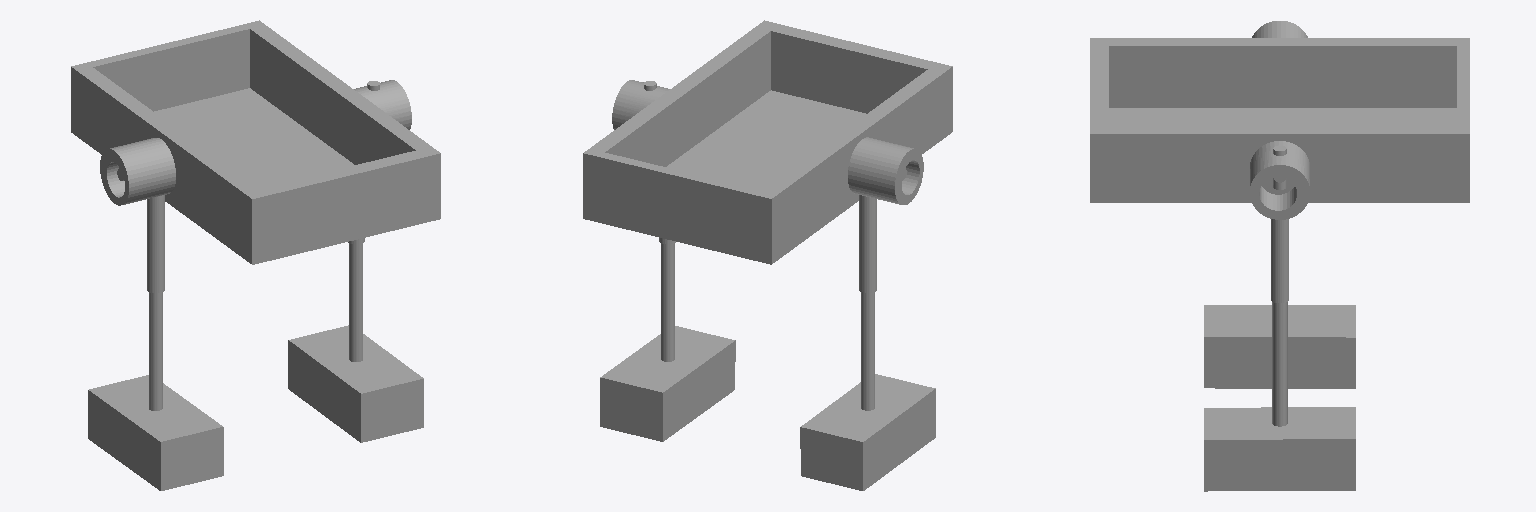
The robot description file, URDF, robot "Siclo1":
<?xml version="1.0" ?>
<!-- =================================================================================== -->
<!-- |    This document was autogenerated by xacro from /tmp/Siclo1_temp.xacro         | -->
<!-- |    EDITING THIS FILE BY HAND IS NOT RECOMMENDED                                 | -->
<!-- =================================================================================== -->
<robot name="Siclo1">
  <material name="silver">
    <color rgba="0.700 0.700 0.700 1.000"/>
  </material>
  <transmission name="Left_Hip_Twist_tran">
    <type>transmission_interface/SimpleTransmission</type>
    <joint name="Left_Hip_Twist">
      <hardwareInterface>hardware_interface/EffortJointInterface</hardwareInterface>
    </joint>
    <actuator name="Left_Hip_Twist_actr">
      <hardwareInterface>hardware_interface/EffortJointInterface</hardwareInterface>
      <mechanicalReduction>1</mechanicalReduction>
    </actuator>
  </transmission>
  <transmission name="Left_Hip_Inwards_tran">
    <type>transmission_interface/SimpleTransmission</type>
    <joint name="Left_Hip_Inwards">
      <hardwareInterface>hardware_interface/EffortJointInterface</hardwareInterface>
    </joint>
    <actuator name="Left_Hip_Inwards_actr">
      <hardwareInterface>hardware_interface/EffortJointInterface</hardwareInterface>
      <mechanicalReduction>1</mechanicalReduction>
    </actuator>
  </transmission>
  <transmission name="Left_Hip_Forwards_tran">
    <type>transmission_interface/SimpleTransmission</type>
    <joint name="Left_Hip_Forwards">
      <hardwareInterface>hardware_interface/EffortJointInterface</hardwareInterface>
    </joint>
    <actuator name="Left_Hip_Forwards_actr">
      <hardwareInterface>hardware_interface/EffortJointInterface</hardwareInterface>
      <mechanicalReduction>1</mechanicalReduction>
    </actuator>
  </transmission>
  <transmission name="Left_Knee_tran">
    <type>transmission_interface/SimpleTransmission</type>
    <joint name="Left_Knee">
      <hardwareInterface>hardware_interface/EffortJointInterface</hardwareInterface>
    </joint>
    <actuator name="Left_Knee_actr">
      <hardwareInterface>hardware_interface/EffortJointInterface</hardwareInterface>
      <mechanicalReduction>1</mechanicalReduction>
    </actuator>
  </transmission>
  <transmission name="Left_Ankle_tran">
    <type>transmission_interface/SimpleTransmission</type>
    <joint name="Left_Ankle">
      <hardwareInterface>hardware_interface/EffortJointInterface</hardwareInterface>
    </joint>
    <actuator name="Left_Ankle_actr">
      <hardwareInterface>hardware_interface/EffortJointInterface</hardwareInterface>
      <mechanicalReduction>1</mechanicalReduction>
    </actuator>
  </transmission>
  <transmission name="Right_Hip_Twist_tran">
    <type>transmission_interface/SimpleTransmission</type>
    <joint name="Right_Hip_Twist">
      <hardwareInterface>hardware_interface/EffortJointInterface</hardwareInterface>
    </joint>
    <actuator name="Right_Hip_Twist_actr">
      <hardwareInterface>hardware_interface/EffortJointInterface</hardwareInterface>
      <mechanicalReduction>1</mechanicalReduction>
    </actuator>
  </transmission>
  <transmission name="Right_Hip_Inwards_tran">
    <type>transmission_interface/SimpleTransmission</type>
    <joint name="Right_Hip_Inwards">
      <hardwareInterface>hardware_interface/EffortJointInterface</hardwareInterface>
    </joint>
    <actuator name="Right_Hip_Inwards_actr">
      <hardwareInterface>hardware_interface/EffortJointInterface</hardwareInterface>
      <mechanicalReduction>1</mechanicalReduction>
    </actuator>
  </transmission>
  <transmission name="Right_Hip_Fowards_tran">
    <type>transmission_interface/SimpleTransmission</type>
    <joint name="Right_Hip_Fowards">
      <hardwareInterface>hardware_interface/EffortJointInterface</hardwareInterface>
    </joint>
    <actuator name="Right_Hip_Fowards_actr">
      <hardwareInterface>hardware_interface/EffortJointInterface</hardwareInterface>
      <mechanicalReduction>1</mechanicalReduction>
    </actuator>
  </transmission>
  <transmission name="Right_Knee_tran">
    <type>transmission_interface/SimpleTransmission</type>
    <joint name="Right_Knee">
      <hardwareInterface>hardware_interface/EffortJointInterface</hardwareInterface>
    </joint>
    <actuator name="Right_Knee_actr">
      <hardwareInterface>hardware_interface/EffortJointInterface</hardwareInterface>
      <mechanicalReduction>1</mechanicalReduction>
    </actuator>
  </transmission>
  <transmission name="Right_Ankle_tran">
    <type>transmission_interface/SimpleTransmission</type>
    <joint name="Right_Ankle">
      <hardwareInterface>hardware_interface/EffortJointInterface</hardwareInterface>
    </joint>
    <actuator name="Right_Ankle_actr">
      <hardwareInterface>hardware_interface/EffortJointInterface</hardwareInterface>
      <mechanicalReduction>1</mechanicalReduction>
    </actuator>
  </transmission>
  <gazebo>
    <plugin filename="libgazebo_ros_control.so" name="control"/>
  </gazebo>
  <gazebo reference="base_link">
    <material>Gazebo/Silver</material>
    <mu1>0.2</mu1>
    <mu2>0.2</mu2>
    <selfCollide>true</selfCollide>
    <gravity>true</gravity>
  </gazebo>
  <gazebo reference="Yaw_Link_Left_1">
    <material>Gazebo/Silver</material>
    <mu1>0.2</mu1>
    <mu2>0.2</mu2>
    <selfCollide>true</selfCollide>
  </gazebo>
  <gazebo reference="Inwards_Link_Left_1">
    <material>Gazebo/Silver</material>
    <mu1>0.2</mu1>
    <mu2>0.2</mu2>
    <selfCollide>true</selfCollide>
  </gazebo>
  <gazebo reference="Left_Upper_Leg_1">
    <material>Gazebo/Silver</material>
    <mu1>0.2</mu1>
    <mu2>0.2</mu2>
    <selfCollide>true</selfCollide>
  </gazebo>
  <gazebo reference="Left_Lower_Leg_1">
    <material>Gazebo/Silver</material>
    <mu1>0.2</mu1>
    <mu2>0.2</mu2>
    <selfCollide>true</selfCollide>
  </gazebo>
  <gazebo reference="Left_Foot_1">
    <material>Gazebo/Silver</material>
    <mu1>0.2</mu1>
    <mu2>0.2</mu2>
    <selfCollide>true</selfCollide>
  </gazebo>
  <gazebo reference="Yaw_Link_Right_1">
    <material>Gazebo/Silver</material>
    <mu1>0.2</mu1>
    <mu2>0.2</mu2>
    <selfCollide>true</selfCollide>
  </gazebo>
  <gazebo reference="Inwards_Link_Right_1">
    <material>Gazebo/Silver</material>
    <mu1>0.2</mu1>
    <mu2>0.2</mu2>
    <selfCollide>true</selfCollide>
  </gazebo>
  <gazebo reference="Right_Upper_Leg_1">
    <material>Gazebo/Silver</material>
    <mu1>0.2</mu1>
    <mu2>0.2</mu2>
    <selfCollide>true</selfCollide>
  </gazebo>
  <gazebo reference="Right_Lower_Leg_1">
    <material>Gazebo/Silver</material>
    <mu1>0.2</mu1>
    <mu2>0.2</mu2>
    <selfCollide>true</selfCollide>
  </gazebo>
  <gazebo reference="Right_Foot_1">
    <material>Gazebo/Silver</material>
    <mu1>0.2</mu1>
    <mu2>0.2</mu2>
    <selfCollide>true</selfCollide>
  </gazebo>
  <link name="base_link">
    <inertial>
      <origin rpy="0 0 0" xyz="0.55 0.1839337697675572 0.8806370422241733"/>
      <mass value="5.999270106348153"/>
      <inertia ixx="0.628826" ixy="0.000141" ixz="6.4e-05" iyy="0.37776" iyz="0.00285" izz="0.96037"/>
    </inertial>
    <visual>
      <origin rpy="0 0 0" xyz="0 0 0"/>
      <geometry>
        <mesh filename="meshes/base_link.stl" scale="0.001 0.001 0.001"/>
      </geometry>
      <material name="silver"/>
    </visual>
    <collision>
      <origin rpy="0 0 0" xyz="0 0 0"/>
      <geometry>
        <mesh filename="meshes/base_link.stl" scale="0.001 0.001 0.001"/>
      </geometry>
    </collision>
  </link>
  <link name="Yaw_Link_Left_1">
    <inertial>
      <origin rpy="0 0 0" xyz="1.1102230246251565e-16 -5.551115123125783e-17 -0.08124999999999993"/>
      <mass value="0.05001800809403412"/>
      <inertia ixx="5.7e-05" ixy="0.0" ixz="0.0" iyy="5.7e-05" iyz="-0.0" izz="8e-06"/>
    </inertial>
    <visual>
      <origin rpy="0 0 0" xyz="-0.925 -0.2 -0.98"/>
      <geometry>
        <mesh filename="meshes/Yaw_Link_Left_1.stl" scale="0.001 0.001 0.001"/>
      </geometry>
      <material name="silver"/>
    </visual>
    <collision>
      <origin rpy="0 0 0" xyz="-0.925 -0.2 -0.98"/>
      <geometry>
        <mesh filename="meshes/Yaw_Link_Left_1.stl" scale="0.001 0.001 0.001"/>
      </geometry>
    </collision>
  </link>
  <link name="Inwards_Link_Left_1">
    <inertial>
      <origin rpy="0 0 0" xyz="0.0 0.017796999999999924 0.0"/>
      <mass value="0.05001800809403413"/>
      <inertia ixx="8e-06" ixy="-0.0" ixz="0.0" iyy="5.7e-05" iyz="-0.0" izz="5.7e-05"/>
    </inertial>
    <visual>
      <origin rpy="0 0 0" xyz="-0.925 -0.182203 -0.89875"/>
      <geometry>
        <mesh filename="meshes/Inwards_Link_Left_1.stl" scale="0.001 0.001 0.001"/>
      </geometry>
      <material name="silver"/>
    </visual>
    <collision>
      <origin rpy="0 0 0" xyz="-0.925 -0.182203 -0.89875"/>
      <geometry>
        <mesh filename="meshes/Inwards_Link_Left_1.stl" scale="0.001 0.001 0.001"/>
      </geometry>
    </collision>
  </link>
  <link name="Left_Upper_Leg_1">
    <inertial>
      <origin rpy="0 0 0" xyz="0.1407448576165632 0.001627796640034762 -0.03499248663320509"/>
      <mass value="0.5498281512292873"/>
      <inertia ixx="0.005497" ixy="5.3e-05" ixz="-0.000339" iyy="0.005226" iyz="-5.7e-05" izz="0.002672"/>
    </inertial>
    <visual>
      <origin rpy="0 0 0" xyz="0 0 -0.195"/>
      <geometry>
        <cylinder length="0.390" radius="0.025"/>
      </geometry>
      <material name="silver"/>
    </visual>
    <collision>
      <origin rpy="0 0 0" xyz="0 0 -0.195"/>
      <geometry>
        <cylinder length="0.390" radius="0.025"/>
      </geometry>
    </collision>
  </link>
  <link name="Left_Lower_Leg_1">
    <inertial>
      <origin rpy="0 0 0" xyz="0.09999999999999987 0.022628189726442455 -0.4154072995638456"/>
      <mass value="0.25056451084866793"/>
      <inertia ixx="0.006564" ixy="-0.0" ixz="0.0" iyy="0.006564" iyz="2.9e-05" izz="0.001224"/>
    </inertial>
    <visual>
      <origin rpy="0 0 0" xyz="0 0 -0.180"/>
      <geometry>
        <cylinder length="0.360" radius="0.020"/>
      </geometry>
      <material name="silver"/>
    </visual>
    <collision>
      <origin rpy="0 0 0" xyz="0 0 -0.180"/>
      <geometry>
        <cylinder length="0.360" radius="0.020"/>
      </geometry>
    </collision>
  </link>
  <link name="Left_Foot_1">
    <inertial>
      <origin rpy="0 0 0" xyz="-1.1102230246251565e-16 0.0004028172209023795 -0.07499853795249971"/>
      <mass value="0.15"/>
      <inertia ixx="0.002281" ixy="0.0" ixz="0.0" iyy="0.000781" iyz="-9e-06" izz="0.0025"/>
    </inertial>
    <visual>
      <origin rpy="0 0 0" xyz="-0.99975 -0.225012 -0.148352"/>
      <geometry>
        <mesh filename="meshes/Left_Foot_1.stl" scale="0.001 0.001 0.001"/>
      </geometry>
      <material name="silver"/>
    </visual>
    <collision>
      <origin rpy="0 0 0" xyz="-0.99975 -0.225012 -0.148352"/>
      <geometry>
        <mesh filename="meshes/Left_Foot_1.stl" scale="0.001 0.001 0.001"/>
      </geometry>
    </collision>
  </link>
  <link name="Yaw_Link_Right_1">
    <inertial>
      <origin rpy="0 0 0" xyz="0.0 2.7755575615628914e-17 0.0837500000000001"/>
      <mass value="0.05001800809403413"/>
      <inertia ixx="5.7e-05" ixy="-0.0" ixz="0.0" iyy="5.7e-05" iyz="0.0" izz="8e-06"/>
    </inertial>
    <visual>
      <origin rpy="0 0 0" xyz="-0.175 -0.2 -0.82"/>
      <geometry>
        <mesh filename="meshes/Yaw_Link_Right_1.stl" scale="0.001 0.001 0.001"/>
      </geometry>
      <material name="silver"/>
    </visual>
    <collision>
      <origin rpy="0 0 0" xyz="-0.175 -0.2 -0.82"/>
      <geometry>
        <mesh filename="meshes/Yaw_Link_Right_1.stl" scale="0.001 0.001 0.001"/>
      </geometry>
    </collision>
  </link>
  <link name="Inwards_Link_Right_1">
    <inertial>
      <origin rpy="0 0 0" xyz="2.498001805406602e-16 -0.018391706160032883 0.003749999999999032"/>
      <mass value="0.05001800809403407"/>
      <inertia ixx="8e-06" ixy="-0.0" ixz="-0.0" iyy="5.7e-05" iyz="0.0" izz="5.7e-05"/>
    </inertial>
    <visual>
      <origin rpy="0 0 0" xyz="-0.175 -0.217797 -0.9"/>
      <geometry>
        <mesh filename="meshes/Inwards_Link_Right_1.stl" scale="0.001 0.001 0.001"/>
      </geometry>
      <material name="silver"/>
    </visual>
    <collision>
      <origin rpy="0 0 0" xyz="-0.175 -0.217797 -0.9"/>
      <geometry>
        <mesh filename="meshes/Inwards_Link_Right_1.stl" scale="0.001 0.001 0.001"/>
      </geometry>
    </collision>
  </link>
  <link name="Right_Upper_Leg_1">
    <inertial>
      <origin rpy="0 0 0" xyz="-0.14074485761656322 0.0011154210407345322 -0.07170479247980155"/>
      <mass value="0.5498281512292872"/>
      <inertia ixx="0.005497" ixy="-5.1e-05" ixz="0.00034" iyy="0.005226" iyz="-7e-05" izz="0.002672"/>
    </inertial>
    <visual>
      <origin rpy="0 0 0" xyz="0 0 -0.195"/>
      <geometry>
        <cylinder length="0.390" radius="0.025"/>
      </geometry>
      <material name="silver"/>
    </visual>
    <collision>
      <origin rpy="0 0 0" xyz="0 0 -0.195"/>
      <geometry>
        <cylinder length="0.390" radius="0.025"/>
      </geometry>
    </collision>
  </link>
  <link name="Right_Lower_Leg_1">
    <inertial>
      <origin rpy="0 0 0" xyz="-0.02499999999999994 0.011548712597451327 -0.4949316102548527"/>
      <mass value="0.2505645108486679"/>
      <inertia ixx="0.006564" ixy="0.0" ixz="-0.0" iyy="0.006564" iyz="-2.9e-05" izz="0.001224"/>
    </inertial>
    <visual>
      <origin rpy="0 0 0" xyz="0 0 -0.180"/>
      <geometry>
        <cylinder length="0.360" radius="0.020"/>
      </geometry>
      <material name="silver"/>
    </visual>
    <collision>
      <origin rpy="0 0 0" xyz="0 0 -0.180"/>
      <geometry>
        <cylinder length="0.360" radius="0.020"/>
      </geometry>
    </collision>
  </link>
  <link name="Right_Foot_1">
    <inertial>
      <origin rpy="0 0 0" xyz="6.938893903907228e-17 -0.00040191489700858174 -0.07499884864350675"/>
      <mass value="0.15000000000000002"/>
      <inertia ixx="0.002281" ixy="0.0" ixz="0.0" iyy="0.000781" iyz="9e-06" izz="0.0025"/>
    </inertial>
    <visual>
      <origin rpy="0 0 0" xyz="-0.10025 -0.196441 -0.150465"/>
      <geometry>
        <mesh filename="meshes/Right_Foot_1.stl" scale="0.001 0.001 0.001"/>
      </geometry>
      <material name="silver"/>
    </visual>
    <collision>
      <origin rpy="0 0 0" xyz="-0.10025 -0.196441 -0.150465"/>
      <geometry>
        <mesh filename="meshes/Right_Foot_1.stl" scale="0.001 0.001 0.001"/>
      </geometry>
    </collision>
  </link>
  <joint name="Left_Hip_Twist" type="revolute">
    <origin rpy="0 0 0" xyz="0.925 0.2 1.018094"/>
    <parent link="base_link"/>
    <child link="Yaw_Link_Left_1"/>
    <axis xyz="0.0 0.0 1.0"/>
    <limit effort="100" lower="-0.349066" upper="0.349066" velocity="100"/>
  </joint>
  <joint name="Left_Hip_Inwards" type="revolute">
    <origin rpy="0 0 0" xyz="0.0 -0.017797 -0.08125"/>
    <parent link="Yaw_Link_Left_1"/>
    <child link="Inwards_Link_Left_1"/>
    <axis xyz="-0.0 -1.0 0.0"/>
    <limit effort="100" lower="-0.698132" upper="0.698132" velocity="100"/>
  </joint>
  <joint name="Left_Hip_Forwards" type="revolute">
    <origin rpy="0 0 0" xyz="-0.05625 0.017797 -0.019047"/>
    <parent link="Inwards_Link_Left_1"/>
    <child link="Left_Upper_Leg_1"/>
    <axis xyz="-1.0 -0.0 -0.0"/>
    <limit effort="100" lower="-1.570796" upper="1.570796" velocity="100"/>
  </joint>
  <joint name="Left_Knee" type="revolute">
    <origin rpy="0 0 0" xyz="0.0 0.0 -0.390000"/>
    <parent link="Left_Upper_Leg_1"/>
    <child link="Left_Lower_Leg_1"/>
    <axis xyz="-1.0 0.0 -0.0"/>
    <limit effort="100" lower="-1.570796" upper="1.570796" velocity="100"/>
  </joint>
  <joint name="Left_Ankle" type="revolute">
    <origin rpy="0 0 0" xyz="0.0 0.0 -0.360000"/>
    <parent link="Left_Lower_Leg_1"/>
    <child link="Left_Foot_1"/>
    <axis xyz="0.0 0.005365 -0.999986"/>
    <limit effort="100" lower="-0.349066" upper="0.349066" velocity="100"/>
  </joint>
  <joint name="Right_Hip_Twist" type="revolute">
    <origin rpy="0 0 0" xyz="0.175 0.2 0.82"/>
    <parent link="base_link"/>
    <child link="Yaw_Link_Right_1"/>
    <axis xyz="0.0 -0.0 -1.0"/>
    <limit effort="100" lower="-0.349066" upper="0.349066" velocity="100"/>
  </joint>
  <joint name="Right_Hip_Inwards" type="revolute">
    <origin rpy="0 0 0" xyz="0.0 0.017797 0.08"/>
    <parent link="Yaw_Link_Right_1"/>
    <child link="Inwards_Link_Right_1"/>
    <axis xyz="0.0 -1.0 0.0"/>
    <limit effort="100" lower="-0.698132" upper="0.698132" velocity="100"/>
  </joint>
  <joint name="Right_Hip_Fowards" type="revolute">
    <origin rpy="0 0 0" xyz="0.05625 -0.017797 0.017797"/>
    <parent link="Inwards_Link_Right_1"/>
    <child link="Right_Upper_Leg_1"/>
    <axis xyz="1.0 0.0 0.0"/>
    <limit effort="100" lower="-1.570796" upper="1.570796" velocity="100"/>
  </joint>
  <joint name="Right_Knee" type="revolute">
    <origin rpy="0 0 0" xyz="0.0 0.0 -0.390000"/>
    <parent link="Right_Upper_Leg_1"/>
    <child link="Right_Lower_Leg_1"/>
    <axis xyz="1.0 0.0 0.0"/>
    <limit effort="100" lower="-1.570796" upper="1.570796" velocity="100"/>
  </joint>
  <joint name="Right_Ankle" type="revolute">
    <origin rpy="0 0 0" xyz="0.0 0.0 -0.360000"/>
    <parent link="Right_Lower_Leg_1"/>
    <child link="Right_Foot_1"/>
    <axis xyz="0.0 -0.005365 -0.999986"/>
    <limit effort="100" lower="-0.349066" upper="0.349066" velocity="100"/>
  </joint>
</robot>

--- What the picture shows (computed from the rendered views, not written in the file) ---
3 views of the same robot in one strip: view 1: azimuth 30°, elevation 25°; view 2: azimuth 150°, elevation 25°; view 3: azimuth 270°, elevation 25° (orthographic).
Robot: Siclo1 — 11 links, 10 joints (10 revolute); root link base_link; default pose: all joints at 0.
Links seen in each view (by area): view 1: base_link, Left_Foot_1, Right_Foot_1, Right_Upper_Leg_1, Right_Lower_Leg_1, Left_Lower_Leg_1; view 2: base_link, Right_Foot_1, Left_Foot_1, Right_Upper_Leg_1, Left_Lower_Leg_1, Right_Lower_Leg_1; view 3: base_link, Left_Foot_1, Right_Foot_1, Left_Lower_Leg_1, Left_Upper_Leg_1.
Boxes of the visible links, bbox=[...] form: base_link: bbox=[71, 20, 440, 264]; Left_Foot_1: bbox=[288, 325, 423, 442]; Right_Foot_1: bbox=[88, 375, 223, 490]; Right_Upper_Leg_1: bbox=[147, 195, 164, 293]; Right_Lower_Leg_1: bbox=[149, 292, 162, 410]; Left_Lower_Leg_1: bbox=[349, 243, 362, 361]; base_link: bbox=[583, 20, 952, 264]; Right_Foot_1: bbox=[800, 374, 935, 490]; Left_Foot_1: bbox=[600, 326, 735, 441]; Right_Upper_Leg_1: bbox=[859, 195, 876, 292]; Left_Lower_Leg_1: bbox=[661, 243, 674, 361]; Right_Lower_Leg_1: bbox=[861, 292, 874, 410]; base_link: bbox=[1090, 21, 1469, 219]; Left_Foot_1: bbox=[1204, 407, 1355, 491]; Right_Foot_1: bbox=[1204, 305, 1355, 388]; Left_Lower_Leg_1: bbox=[1272, 302, 1287, 426]; Left_Upper_Leg_1: bbox=[1271, 219, 1288, 303].
Size in the robot's own frame: 0.9 by 1 by 0.9833 metres.
Meshes: 7 distinct files referenced, 7 mesh visuals loaded (7 binary STL).
